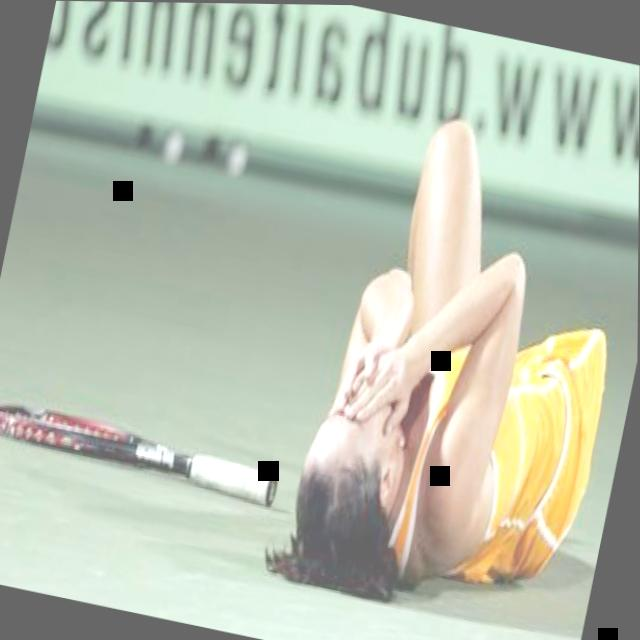Fall-Detected: (261, 74, 640, 624)
